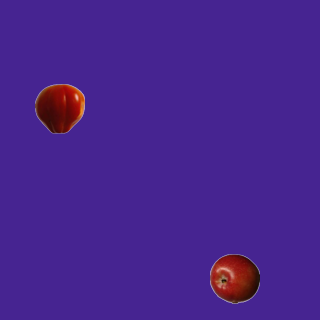Apple Braeburn: (209, 253, 259, 303)
Tomato 1: (34, 83, 84, 133)
